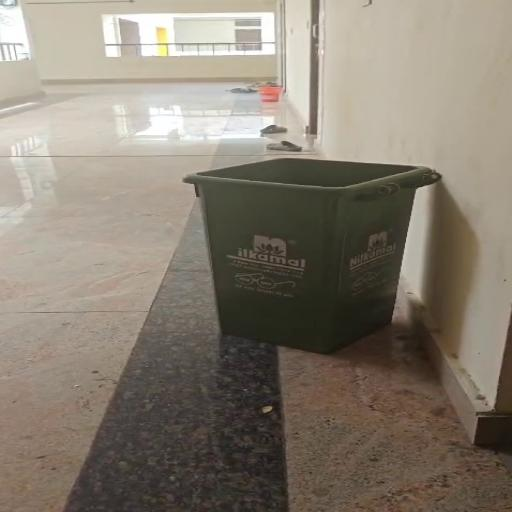Nilkamal-dustbin-detection: (184, 158, 440, 352)
